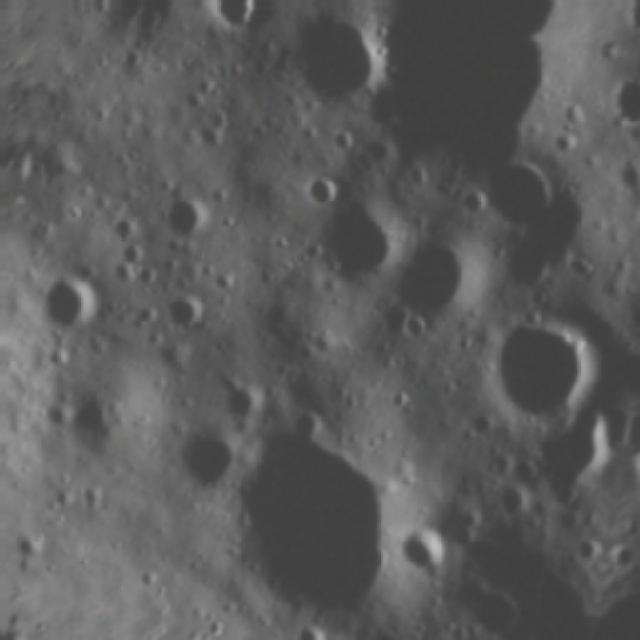crater: (195, 405, 423, 620), (344, 3, 568, 175), (478, 301, 612, 428), (304, 180, 414, 286), (286, 5, 388, 109), (385, 224, 486, 324), (514, 403, 620, 491), (473, 150, 562, 233), (25, 264, 107, 338), (171, 419, 246, 495), (384, 518, 459, 580), (55, 384, 123, 451), (454, 580, 524, 640), (156, 186, 216, 245), (291, 163, 349, 212), (601, 62, 640, 134), (219, 373, 270, 424), (161, 284, 213, 334), (202, 0, 266, 35), (390, 301, 433, 348), (271, 607, 331, 640), (556, 240, 602, 283), (5, 525, 48, 563), (17, 138, 40, 198), (566, 532, 602, 568), (125, 562, 163, 592)
